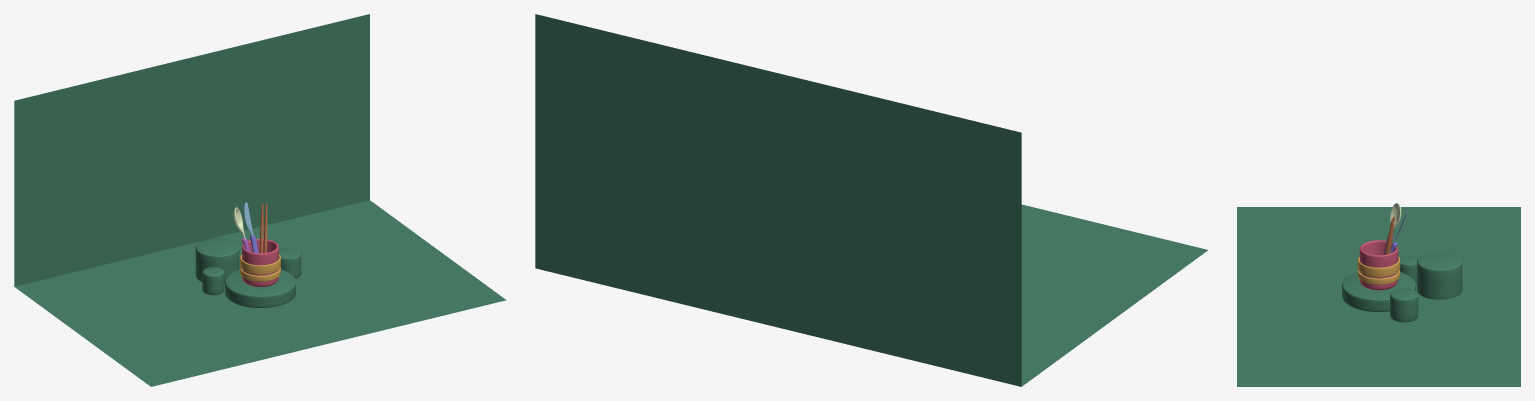
The model's file is Generator Assets _ Sketchfab.fbx.
The picture shows the model from 3 angles, left to right: view 1: azimuth 30°, elevation 25°; view 2: azimuth 150°, elevation 25°; view 3: azimuth 270°, elevation 25°; orthographic projection. The views are drawn at different scales.
Visible parts, largest first — view 1: Floor, Cylinders, Holder, Ring_1; view 2: Floor; view 3: Floor, Cylinders, Holder, Ring_1, Ring_2.
Part boxes in pixels (bbox=[...]): Floor: bbox=[14, 14, 506, 386]; Cylinders: bbox=[195, 238, 301, 307]; Holder: bbox=[242, 239, 278, 286]; Ring_1: bbox=[240, 254, 280, 274]; Floor: bbox=[535, 14, 1207, 386]; Floor: bbox=[1237, 207, 1520, 386]; Cylinders: bbox=[1342, 251, 1462, 322]; Holder: bbox=[1359, 240, 1398, 290]; Ring_1: bbox=[1357, 256, 1400, 277]; Ring_2: bbox=[1357, 270, 1400, 284].
Bounding box in the file's own units: 150 × 76.75 × 100.
